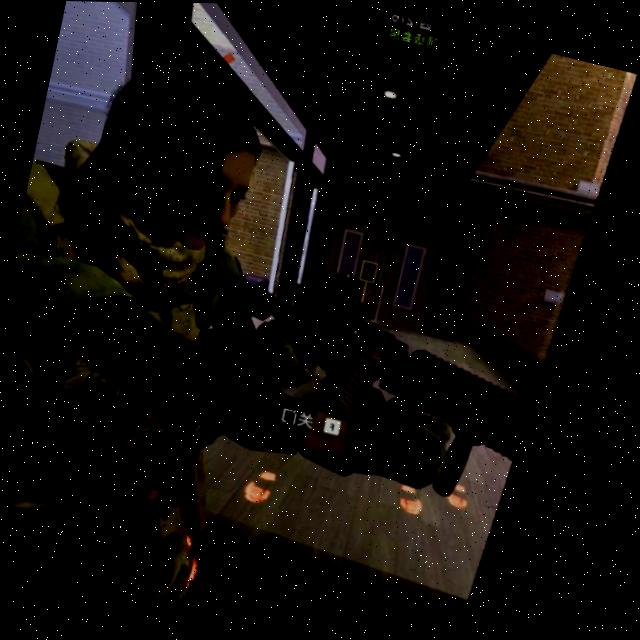MW2_body: (0, 11, 523, 640)
